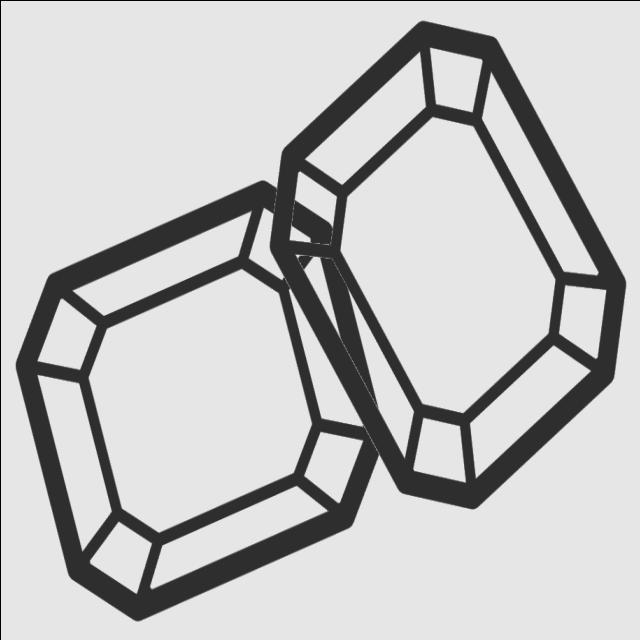emerald: (267, 16, 632, 517), (9, 169, 393, 629)
